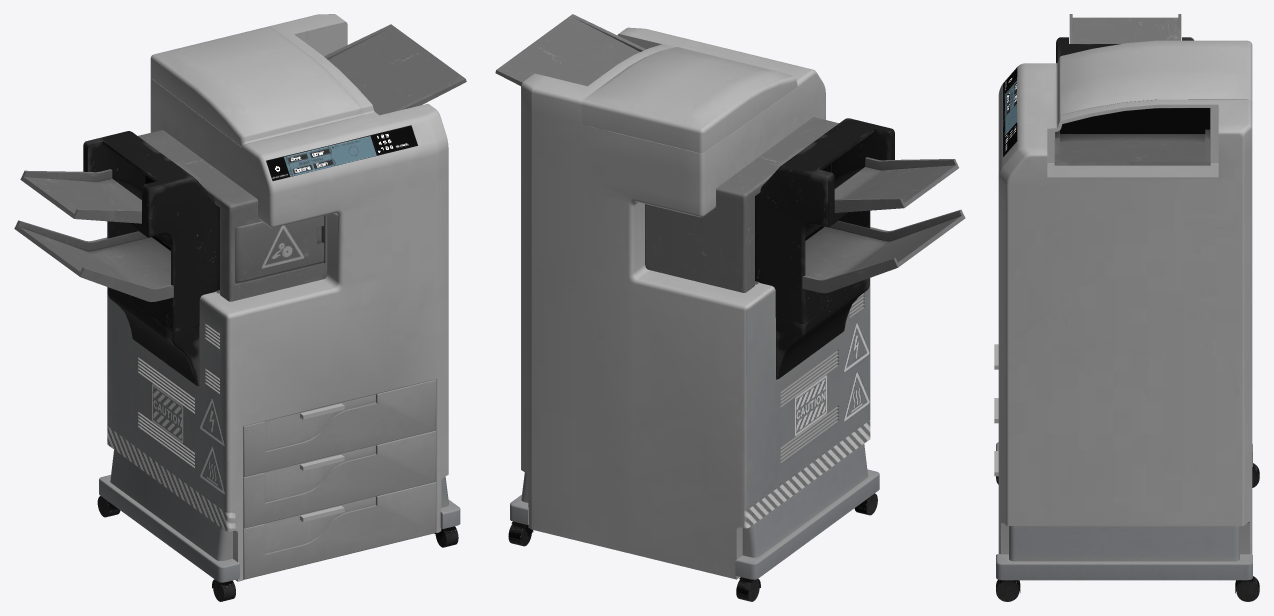
File: printer.glb
3 views of the same model, side by side, from view 1: azimuth 30°, elevation 25°; view 2: azimuth 150°, elevation 25°; view 3: azimuth 270°, elevation 25° (orthographic). The views are drawn at different scales.
Parts seen in each view (by area): view 1: defaultMaterial.012, defaultMaterial.007, defaultMaterial.014, defaultMaterial.018, defaultMaterial.002, defaultMaterial.013, defaultMaterial.003, defaultMaterial.006; view 2: defaultMaterial.012, defaultMaterial.014, defaultMaterial.018, defaultMaterial.002, defaultMaterial.003; view 3: defaultMaterial.012, defaultMaterial.002, defaultMaterial.014, defaultMaterial.011, defaultMaterial.003, defaultMaterial.013, defaultMaterial.018, defaultMaterial.006.
Boxes of the visible parts, bbox=[...] form: defaultMaterial.012: bbox=[107, 14, 448, 581]; defaultMaterial.007: bbox=[243, 379, 435, 579]; defaultMaterial.014: bbox=[14, 24, 466, 301]; defaultMaterial.018: bbox=[83, 131, 219, 386]; defaultMaterial.002: bbox=[99, 450, 460, 582]; defaultMaterial.013: bbox=[266, 125, 417, 180]; defaultMaterial.003: bbox=[97, 496, 458, 601]; defaultMaterial.006: bbox=[300, 403, 344, 521]; defaultMaterial.012: bbox=[521, 27, 870, 579]; defaultMaterial.014: bbox=[495, 14, 965, 293]; defaultMaterial.018: bbox=[755, 118, 894, 379]; defaultMaterial.002: bbox=[510, 444, 879, 579]; defaultMaterial.003: bbox=[508, 493, 877, 601]; defaultMaterial.012: bbox=[998, 40, 1252, 554]; defaultMaterial.002: bbox=[996, 442, 1252, 580]; defaultMaterial.014: bbox=[1054, 14, 1210, 165]; defaultMaterial.011: bbox=[1060, 108, 1210, 133]; defaultMaterial.003: bbox=[996, 463, 1259, 601]; defaultMaterial.013: bbox=[1003, 67, 1017, 156]; defaultMaterial.018: bbox=[1056, 37, 1193, 62]; defaultMaterial.006: bbox=[994, 344, 998, 476].
Size of the model in its own units: 1.24 by 1.39 by 0.7069.
Materials: 9 (8 with a texture image).
